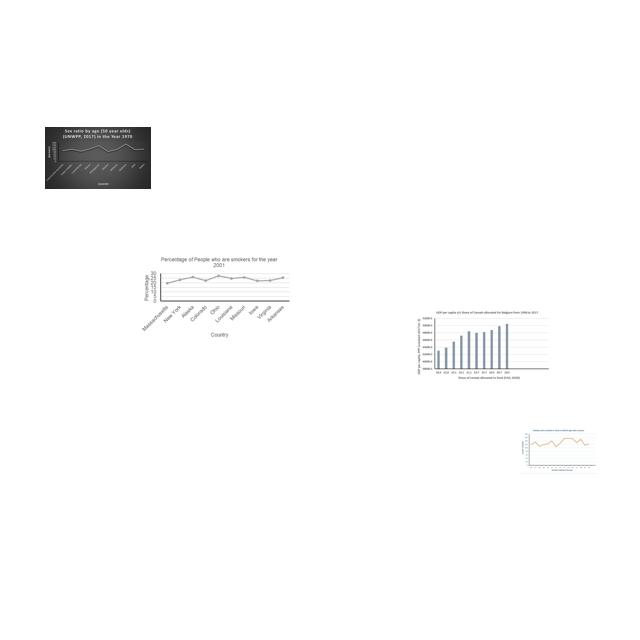Graph: (139, 253, 292, 341), (414, 309, 551, 383), (45, 127, 151, 189), (520, 428, 597, 474)
